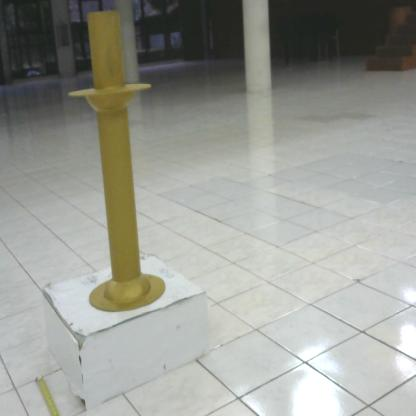pole: (66, 6, 176, 325)
